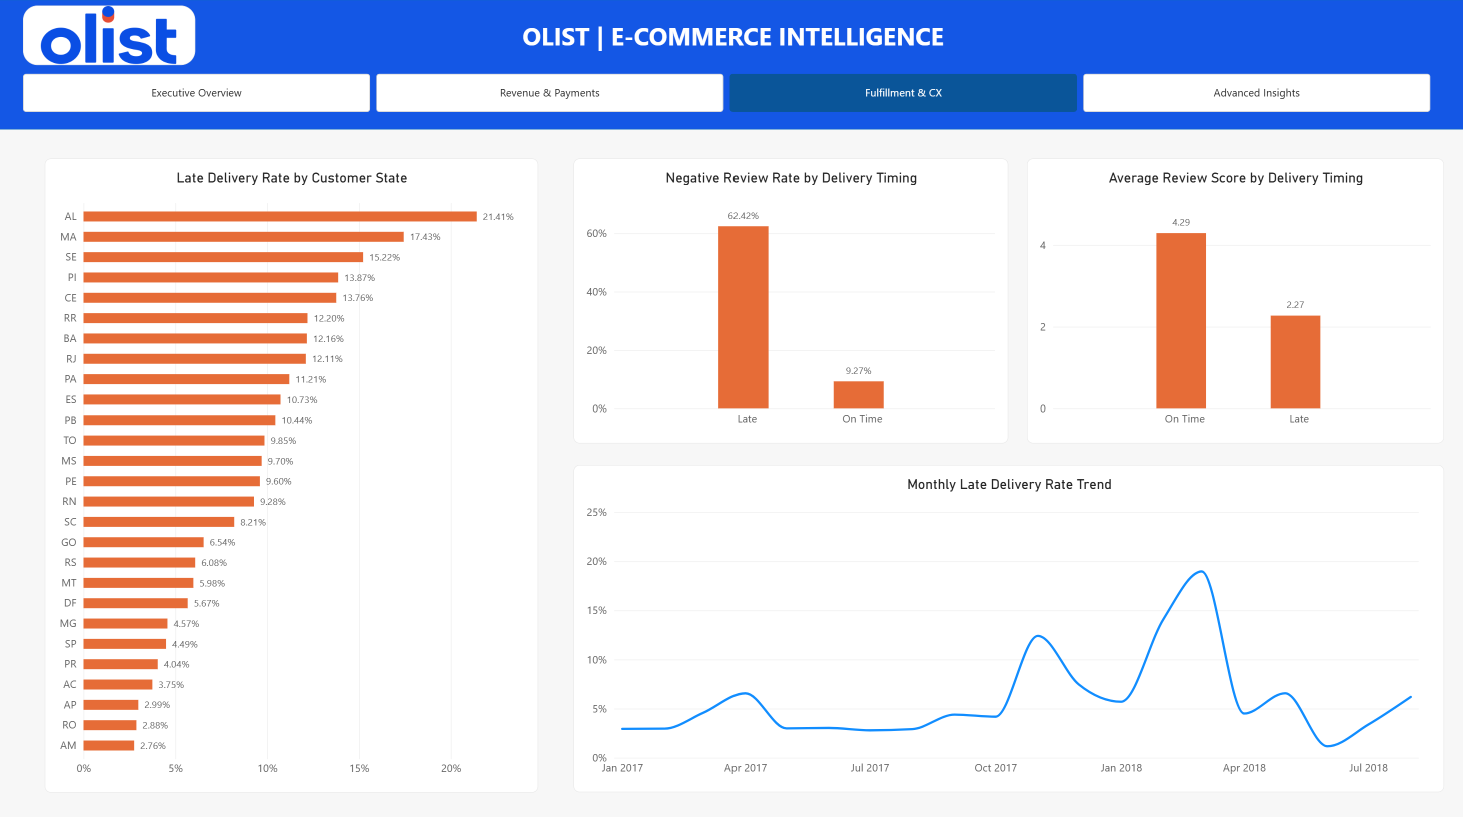

Layout of this report page (visuals, bound fields, positions):
{"tool":"powerbi","page":{"name":"Fulfillment & CX","canvas":[1920,1080],"ordinal":2},"visuals":[{"type":"shape","box":[0,0,1919.6,170.2],"z":0},{"type":"pageNavigator","box":[31.8,96.6,1842.8,50.5],"z":1000},{"type":"image","box":[31.8,7.7,225.1,78],"z":2000},{"type":"textbox","box":[0,26,1919.7,59.2],"z":3000},{"type":"clusteredBarChart","title":"Late Delivery Rate by Customer State","fields":{"Category":["Fact_Order_Overview.customer_state"],"Y":["Fact_Order_Overview.Late Delivery Rate"]},"box":[60.1,208,645.3,828.8],"z":3001},{"type":"clusteredColumnChart","title":"Negative Review Rate by Delivery Timing","fields":{"Category":["Fact_Order_Overview.Delivery Timing"],"Y":["Fact_Order_Overview.Low Rating Rate (%)"]},"box":[751.4,208,567.8,372.1],"z":3002},{"type":"clusteredColumnChart","title":"Average Review Score by Delivery Timing","fields":{"Category":["Fact_Order_Overview.Delivery Timing"],"Y":["Fact_Order_Overview.Average Review Score"]},"box":[1343.7,208,545.4,372.1],"z":3003},{"type":"lineChart","title":"Monthly Late Delivery Rate Trend","fields":{"Category":["Fact_Order_Overview.Purchase Month"],"Y":["Fact_Order_Overview.Late Delivery Rate"]},"box":[751.4,608.6,1137.7,428.2],"z":3004}]}

Visuals, with their boxes in screenshot pixels (x1, y1, x2, y2), scaled from the page's 1920x1080 canvas onto the 1463x817 screenshot:
shape: [x1=0, y1=0, x2=1462, y2=129]
pageNavigator: [x1=24, y1=73, x2=1428, y2=111]
image: [x1=24, y1=6, x2=196, y2=65]
textbox: [x1=0, y1=20, x2=1462, y2=64]
"Late Delivery Rate by Customer State" clusteredBarChart: [x1=46, y1=157, x2=538, y2=784]
"Negative Review Rate by Delivery Timing" clusteredColumnChart: [x1=573, y1=157, x2=1005, y2=439]
"Average Review Score by Delivery Timing" clusteredColumnChart: [x1=1024, y1=157, x2=1439, y2=439]
"Monthly Late Delivery Rate Trend" lineChart: [x1=573, y1=460, x2=1439, y2=784]
